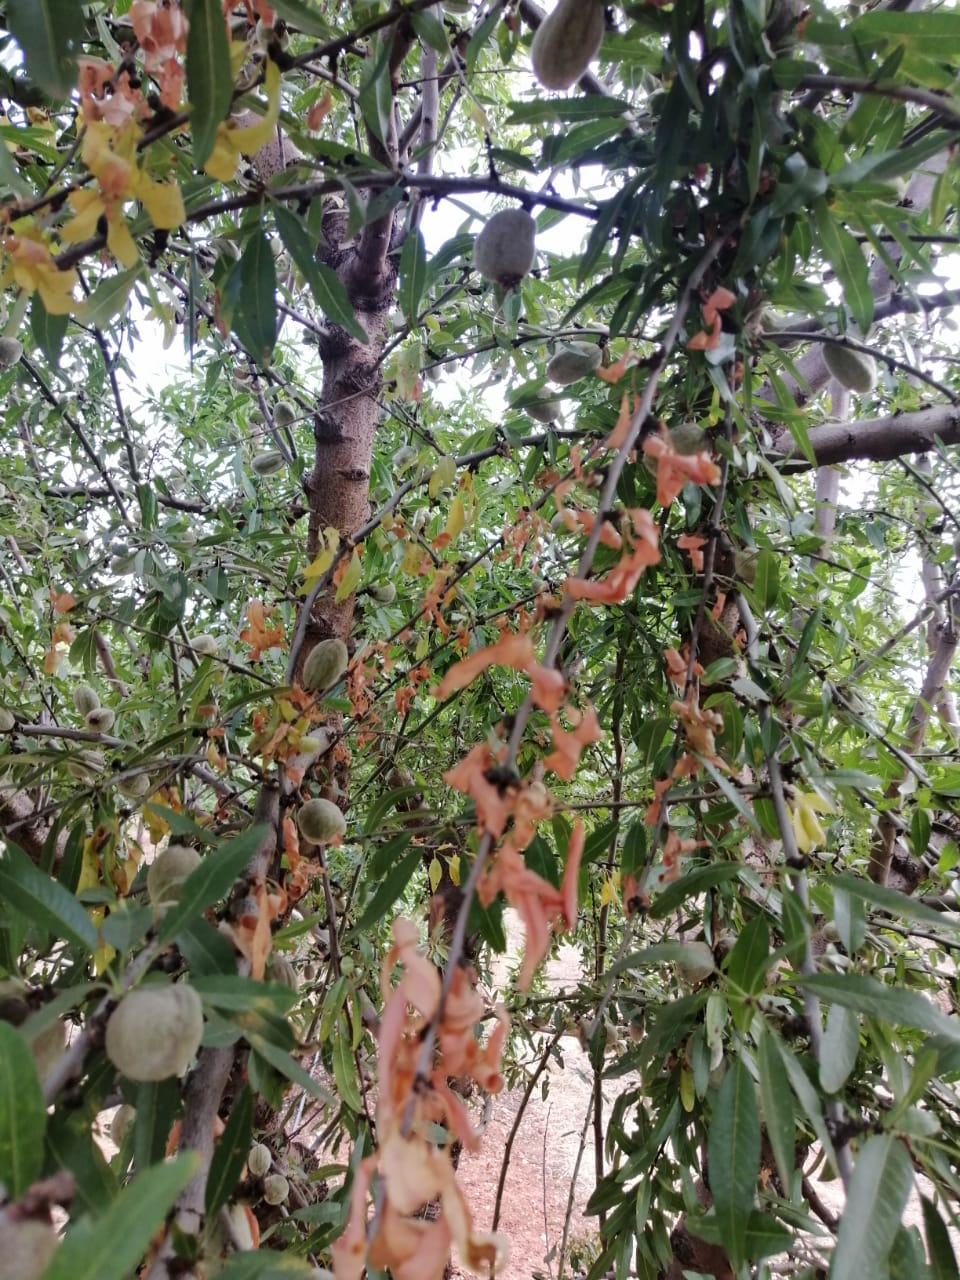chancre fusicocum: (332, 268, 737, 1280), (176, 435, 606, 811), (1, 1, 291, 322), (34, 591, 280, 692)
